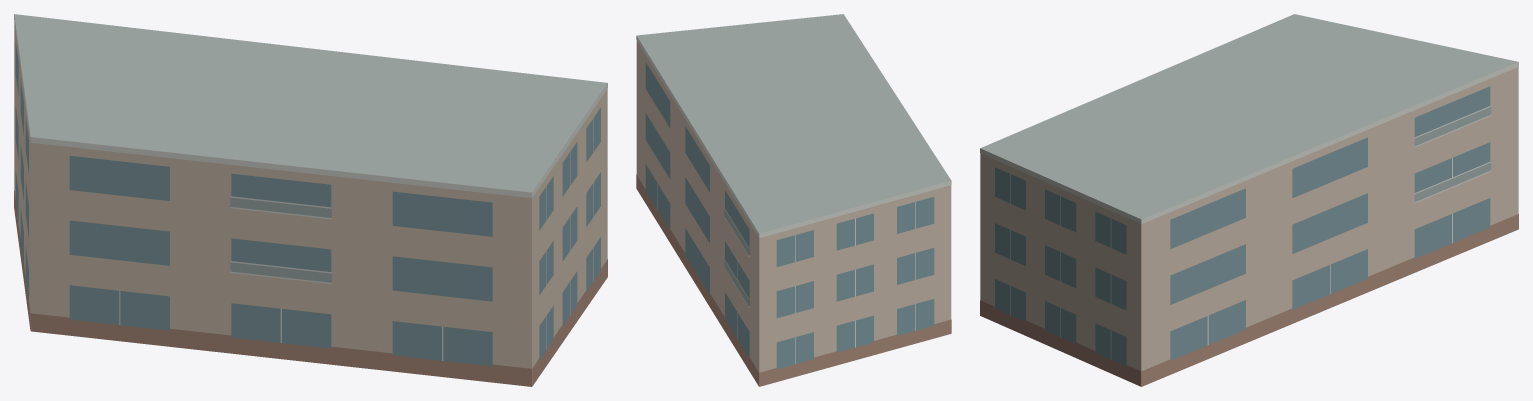
Rendered from survey-upis-32901727.glb.
The picture shows the model from 3 angles, left to right: view 1: azimuth 30°, elevation 25°; view 2: azimuth 150°, elevation 25°; view 3: azimuth 270°, elevation 25°; orthographic projection. The views are drawn at different scales.
Visible parts, largest first — view 1: survey-upis-32901727.tmp; view 2: survey-upis-32901727.tmp; view 3: survey-upis-32901727.tmp.
Boxes of the visible parts, x1=… form: survey-upis-32901727.tmp: x1=14, y1=14, x2=607, y2=386; survey-upis-32901727.tmp: x1=636, y1=14, x2=951, y2=386; survey-upis-32901727.tmp: x1=980, y1=14, x2=1518, y2=386.
Size of the model in its own units: 22.37 by 8.5 by 24.79.
